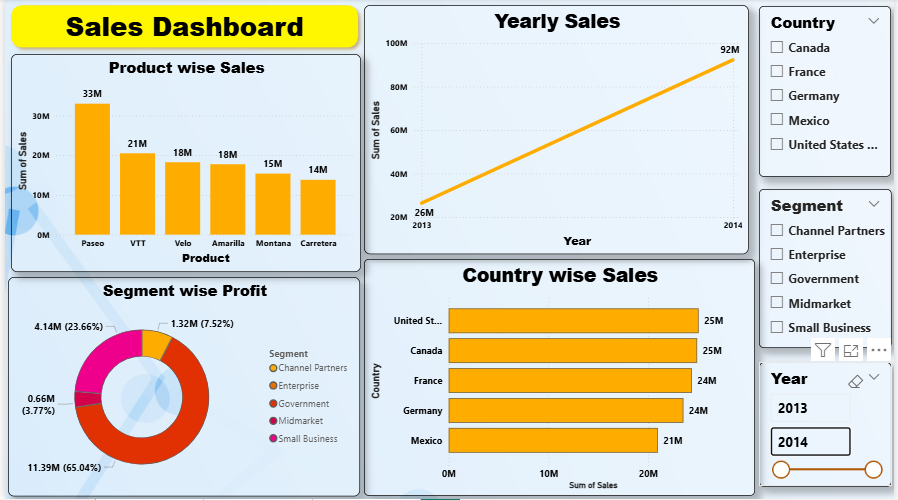

Layout of this report page (visuals, bound fields, positions):
{"tool":"powerbi","page":{"name":"Dashboard 1","canvas":[1280,720],"ordinal":0},"visuals":[{"type":"columnChart","title":"Product wise Sales","fields":{"Category":["financials.Product"],"Y":["Sum(financials.Sales)"]},"box":[8.4,79,503.9,314.1],"z":0},{"type":"donutChart","title":"Segment wise Profit","fields":{"Y":["Sum(financials.Profit)"],"Series":["financials.Segment"]},"box":[5,399.8,507.3,315.8],"z":1000},{"type":"barChart","title":"Country wise Sales","fields":{"Category":["financials.Country"],"Y":["Sum(financials.Sales)"]},"box":[517.4,374.6,562.7,341],"z":2000},{"type":"shape","box":[0,0,517.4,79],"z":3000},{"type":"slicer","fields":{"Values":["financials.Country"]},"box":[1085.9,10.2,190.2,245.9],"z":4000},{"type":"slicer","fields":{"Values":["financials.Segment"]},"box":[1085.9,273.9,190.8,228.7],"z":5000},{"type":"slicer","fields":{"Values":["financials.Year"]},"box":[1085.9,522.1,190.8,179.8],"z":6000},{"type":"lineChart","title":"Yearly Sales ","fields":{"Y":["Sum(financials.Sales)"],"Category":["financials.Year"]},"box":[517.4,8.4,554.3,359.5],"z":7000}]}

Visuals, with their boxes in screenshot pixels (x1, y1, x2, y2), scaled from the page's 1280x720 canvas onto the 898x500 screenshot:
"Product wise Sales" columnChart: [6,55,359,273]
"Segment wise Profit" donutChart: [4,278,359,497]
"Country wise Sales" barChart: [363,260,758,497]
shape: [0,0,363,55]
slicer - financials.Country: [762,7,895,178]
slicer - financials.Segment: [762,190,896,349]
slicer - financials.Year: [762,363,896,487]
"Yearly Sales " lineChart: [363,6,752,255]
